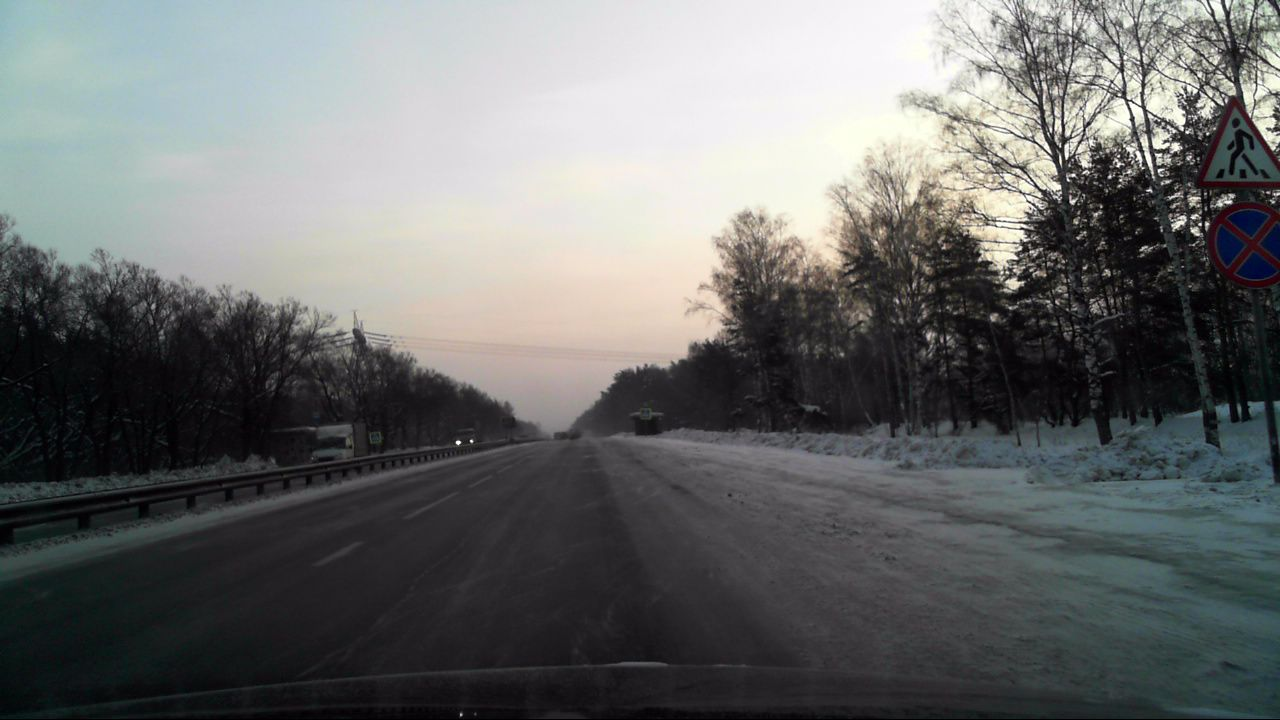No Parking: (1209, 199, 1280, 299)
